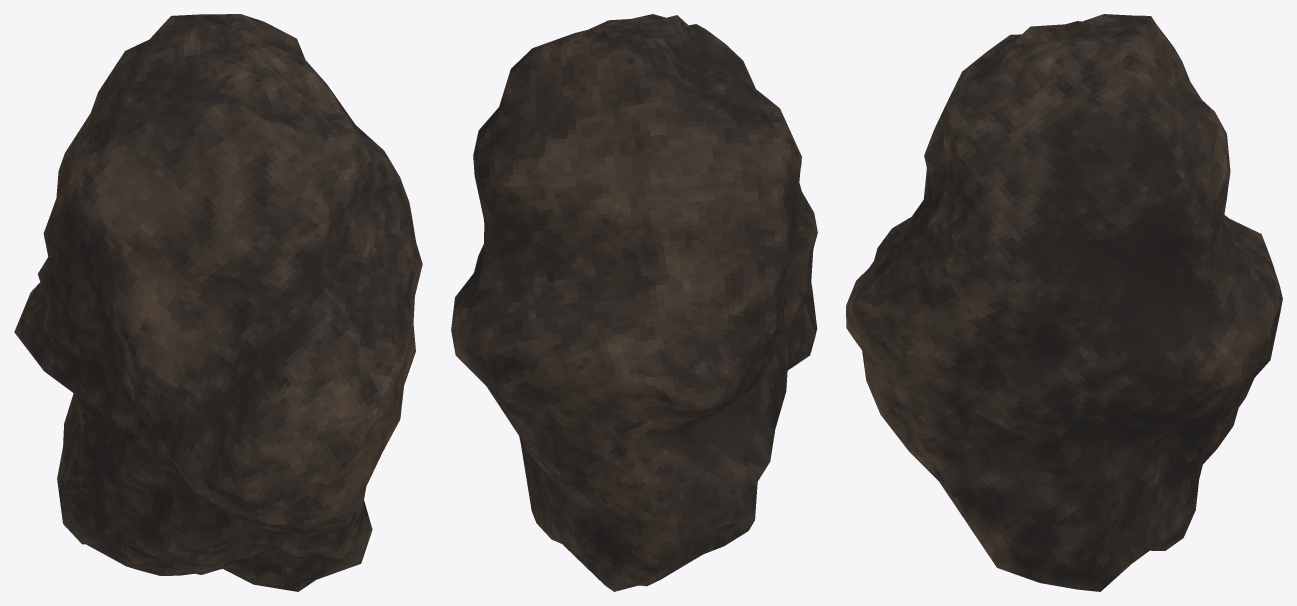
Rendered from SM_RP2_Rock_2m_5.002.glb.
3 views of the same model, side by side, from view 1: azimuth 30°, elevation 25°; view 2: azimuth 150°, elevation 25°; view 3: azimuth 270°, elevation 25° (orthographic). The views are drawn at different scales.
Parts seen in each view (by area): view 1: SM_RP2_Rock_2m_5.002; view 2: SM_RP2_Rock_2m_5.002; view 3: SM_RP2_Rock_2m_5.002.
Part boxes in pixels (<box>): SM_RP2_Rock_2m_5.002: <box>14,14,422,591</box>; SM_RP2_Rock_2m_5.002: <box>451,14,817,591</box>; SM_RP2_Rock_2m_5.002: <box>846,14,1282,591</box>.
Size of the model in its own units: 1.95 by 3.15 by 2.33.
Materials: 1 (1 with a texture image).
